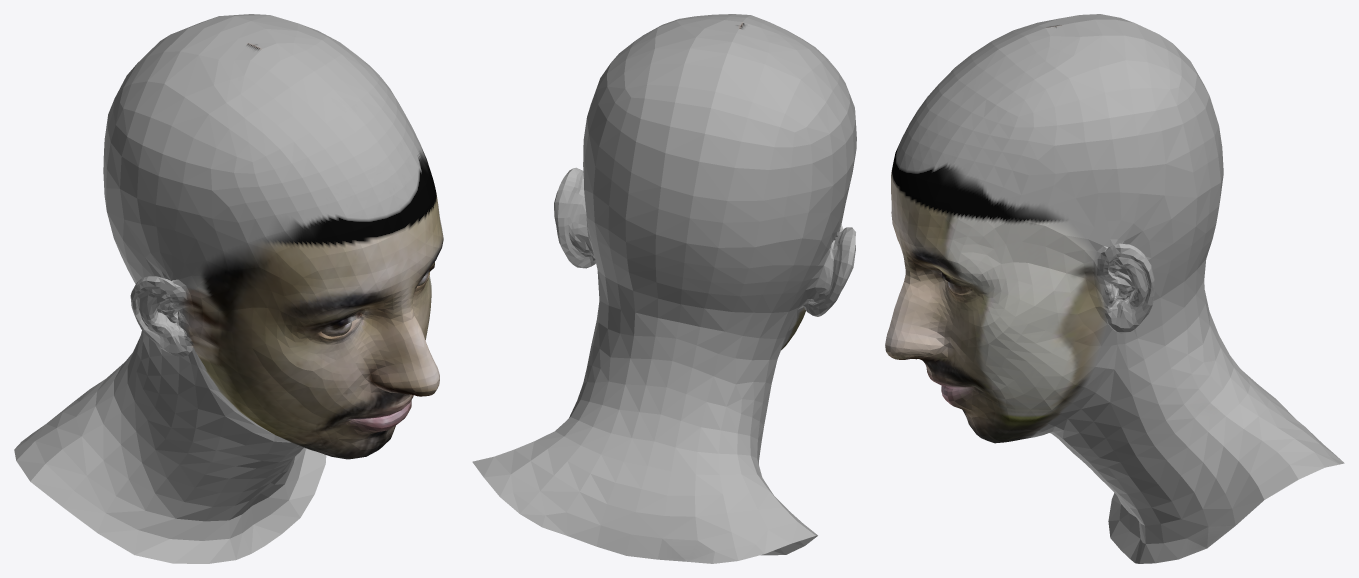
The model's file is ezgif-frame-062.obj.
3 views of the same model, side by side, from view 1: azimuth 30°, elevation 25°; view 2: azimuth 150°, elevation 25°; view 3: azimuth 270°, elevation 25° (orthographic). The views are drawn at different scales.
Size of the model in its own units: 0.1997 by 0.326 by 0.2659.
Materials: 1 (1 with a texture image).
